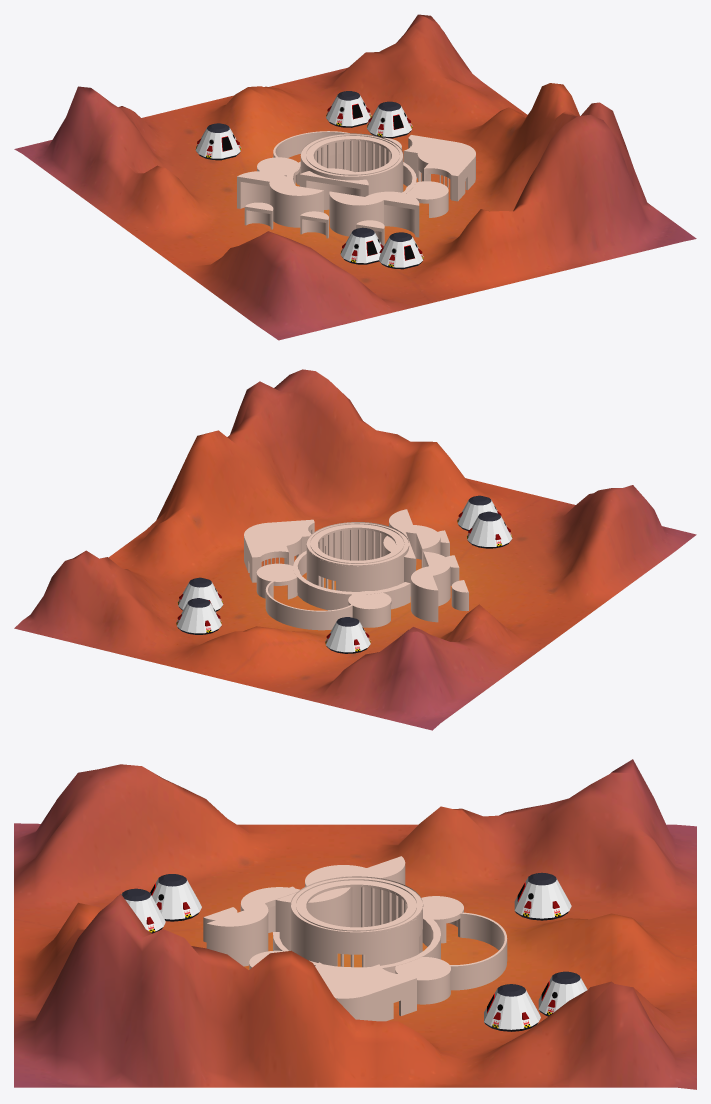
Rendered from CarelNguy.gltf.
The picture shows the model from 3 angles, top to bottom: view 1: azimuth 30°, elevation 25°; view 2: azimuth 150°, elevation 25°; view 3: azimuth 270°, elevation 25°; orthographic projection. The views are drawn at different scales.
Visible parts, largest first — view 1: terrain, 3dmodel, Pod (3), Pod (4), Pod (5), Pod (2), Pod (1); view 2: terrain, 3dmodel, Pod (3), Pod (1), Pod (4), Pod (5), Pod (2); view 3: terrain, 3dmodel, Pod (3), Pod (5), Pod (1), Pod (4), Pod (2).
Boxes of the visible parts, x1,y1,x2,y2 form: terrain: (14, 14, 696, 340); 3dmodel: (237, 131, 475, 245); Pod (3): (195, 123, 240, 160); Pod (4): (326, 91, 371, 127); Pod (5): (367, 101, 412, 138); Pod (2): (379, 232, 423, 269); Pod (1): (340, 227, 383, 264); terrain: (14, 369, 696, 730); 3dmodel: (244, 509, 468, 630); Pod (3): (325, 617, 370, 653); Pod (1): (466, 511, 512, 548); Pod (4): (176, 598, 221, 634); Pod (5): (177, 577, 223, 611); Pod (2): (457, 495, 501, 530); terrain: (14, 759, 696, 1089); 3dmodel: (203, 856, 507, 1021); Pod (3): (514, 872, 571, 920); Pod (5): (484, 984, 540, 1031); Pod (1): (150, 874, 201, 921); Pod (4): (538, 971, 587, 1016); Pod (2): (121, 888, 165, 933).
Bounding box in the file's own units: 0.63 × 0.1672 × 0.69.
Materials: 3 (2 with a texture image).
